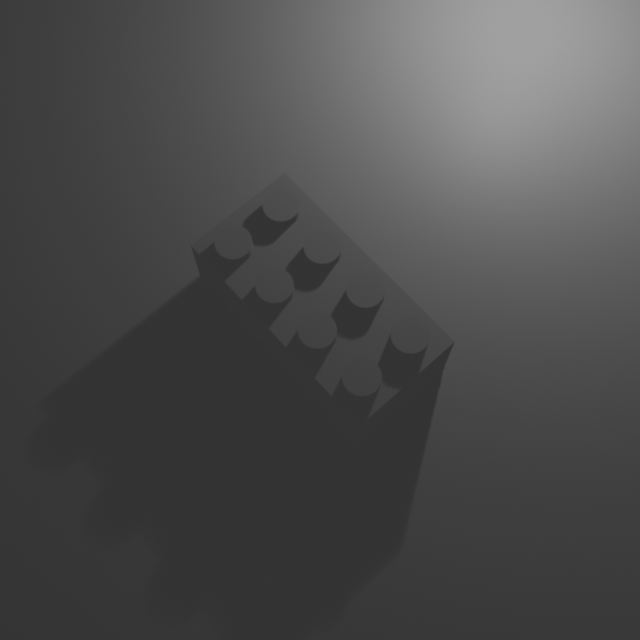lego_2x4: (189, 167, 457, 445)
